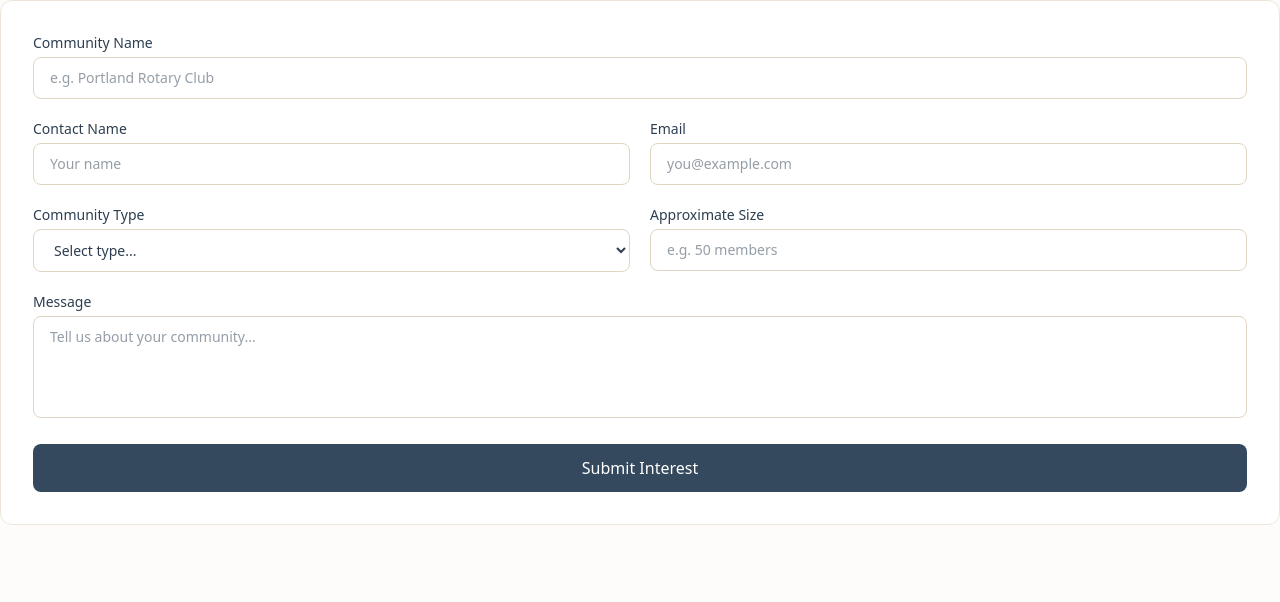
it: PartnershipInterestForm › clears field errors on change
The image size is (1280, 602).
Click the button "Submit Interest" at (640, 468), box [33, 444, 1247, 492]
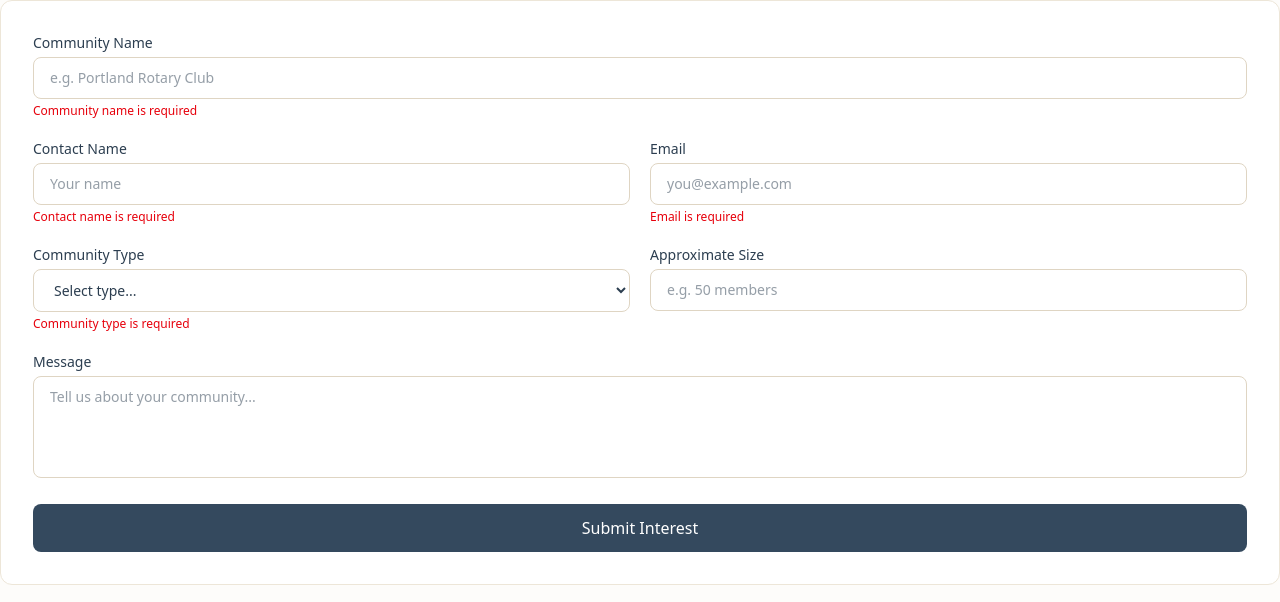
expect the text "Community name is required" is shown: met, box [33, 102, 197, 119]
Type "Test" into the field labelled "Community Name" at (640, 78), box [33, 57, 1247, 99]
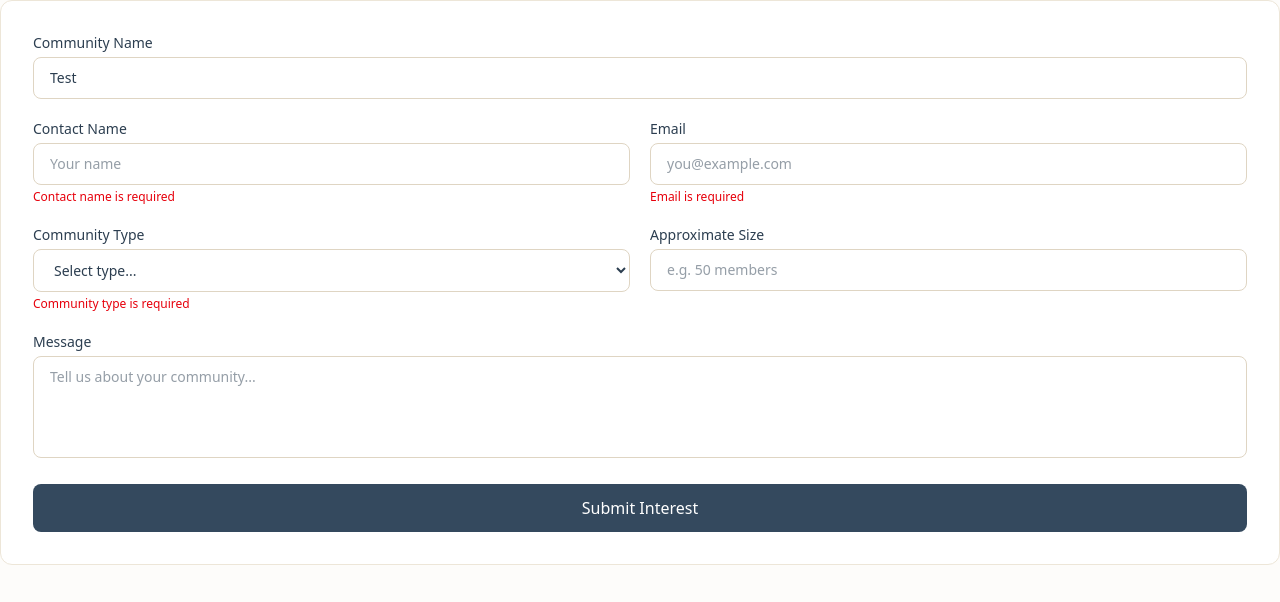
expect the text "Community name is required" is gone: met
